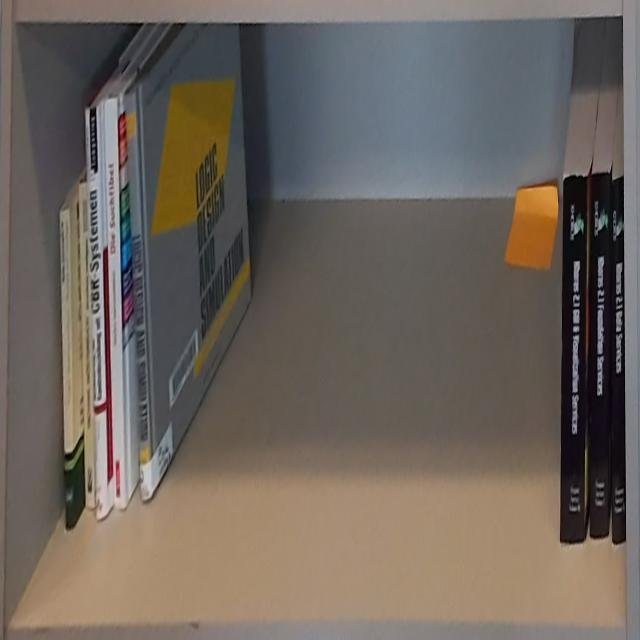Book Spine: (124, 92, 154, 504), (559, 176, 588, 544), (85, 106, 108, 521), (104, 98, 125, 514), (588, 173, 610, 537), (78, 181, 95, 509), (611, 175, 626, 545), (59, 208, 76, 533)
